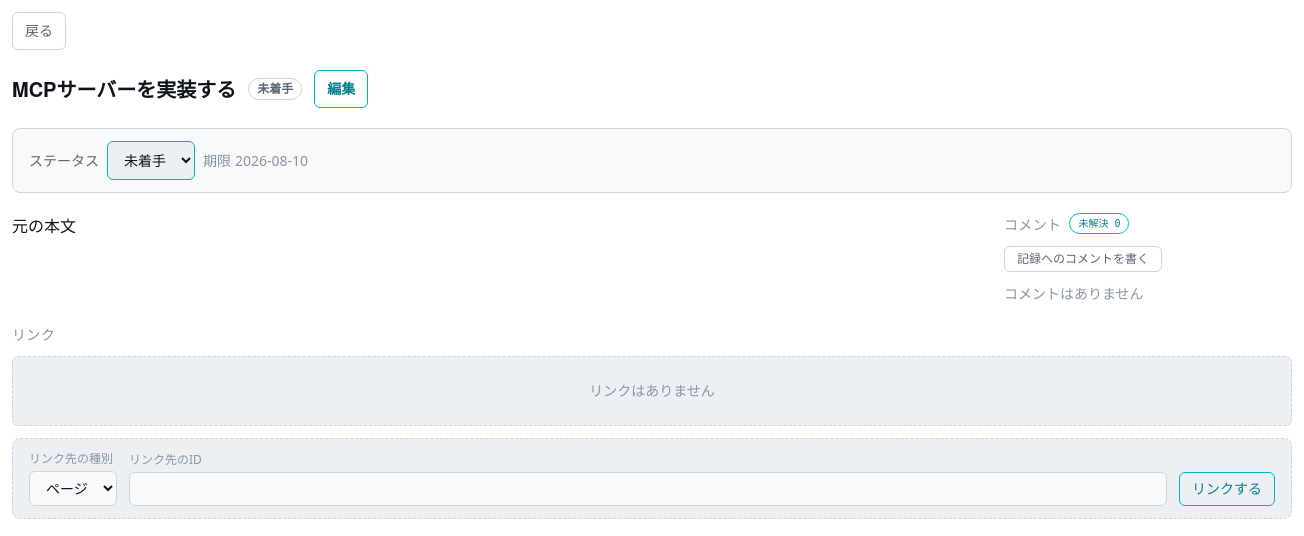
Scenario: TaskDetail の編集 › キャンセルすると編集前の内容に戻る
Check: the heading "MCPサーバーを実装する" is shown, box [12,75,236,103]
Click the button "編集": {"x": 341, "y": 89} [314,70,368,108]
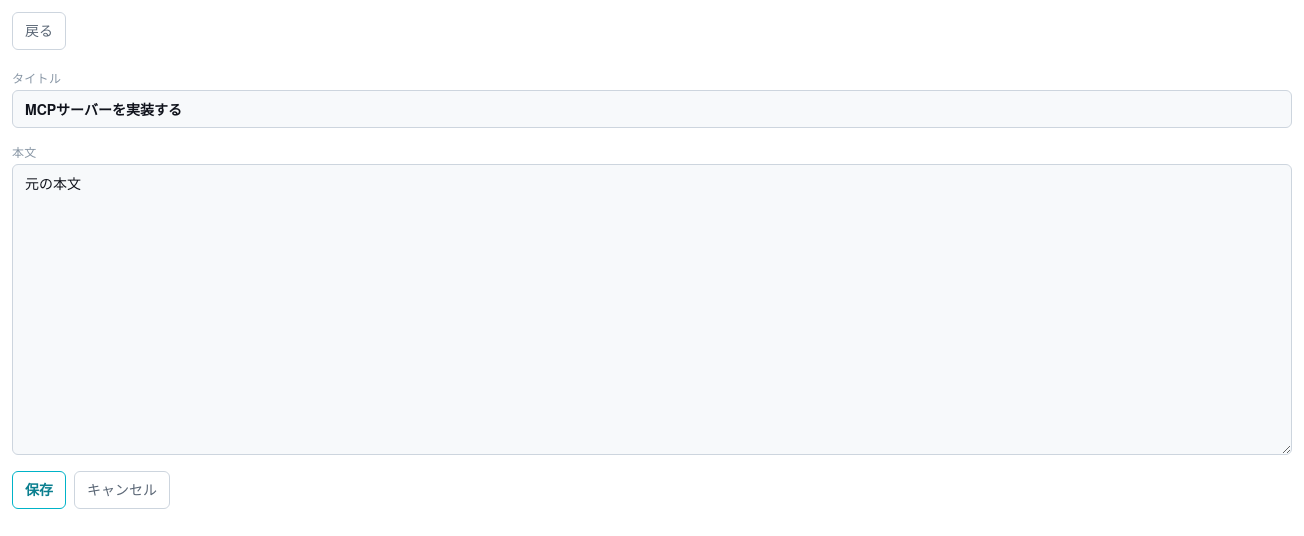
Replace the text in the text box labelled "本文" with "捨てられる本文": {"x": 652, "y": 310} [12,164,1292,455]
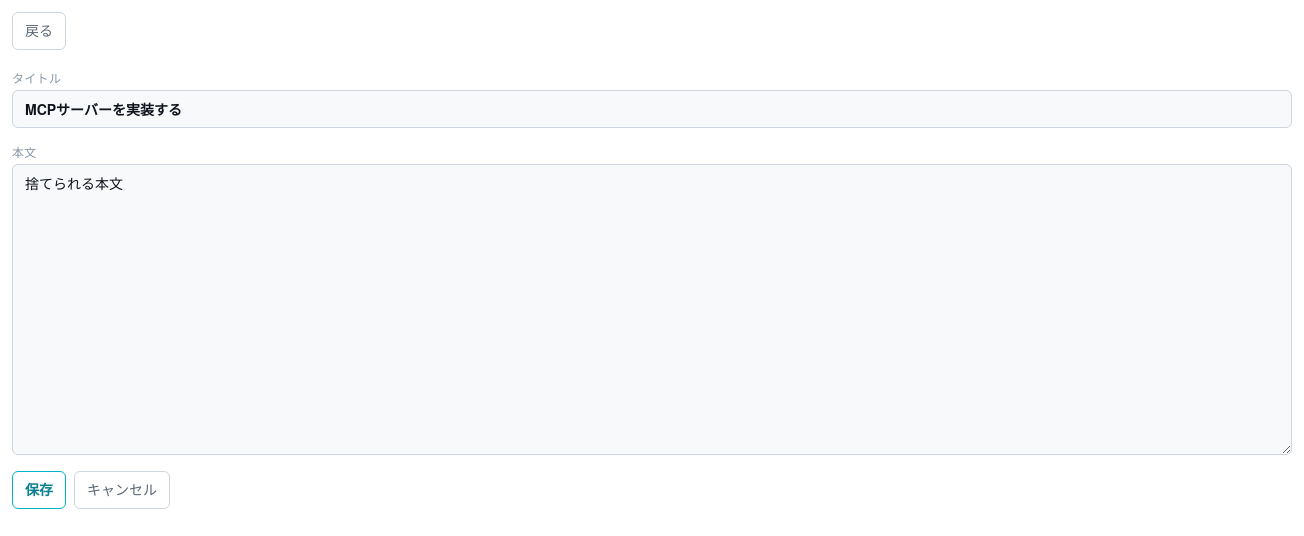
Click the button "キャンセル": {"x": 122, "y": 490} [74,471,170,509]
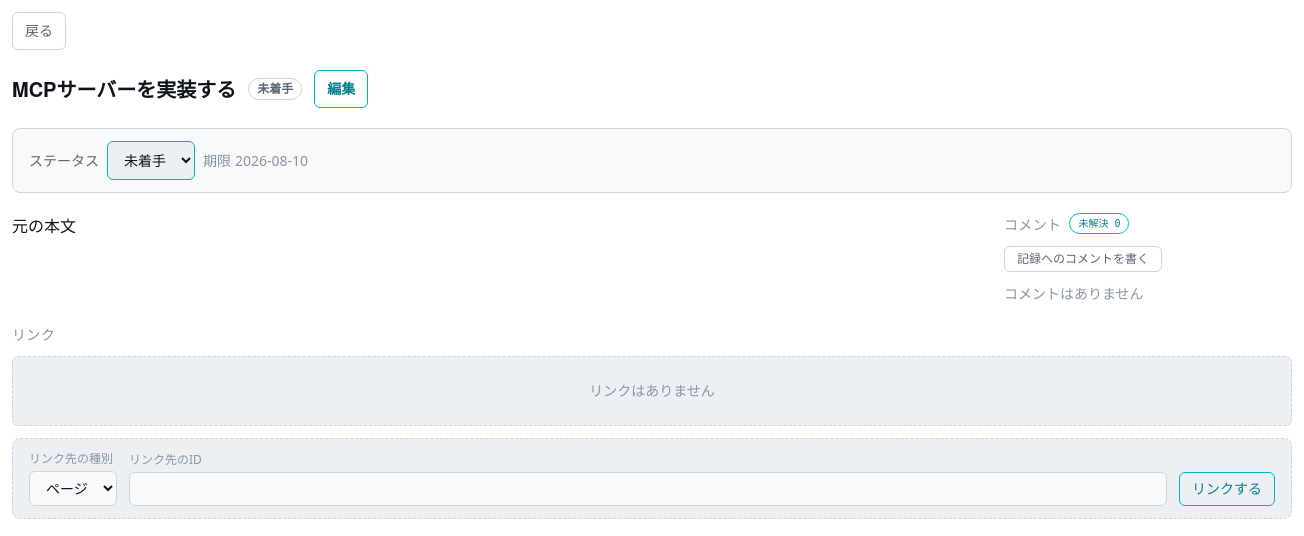
Check: the text "元の本文" is shown, box [12,215,76,237]
